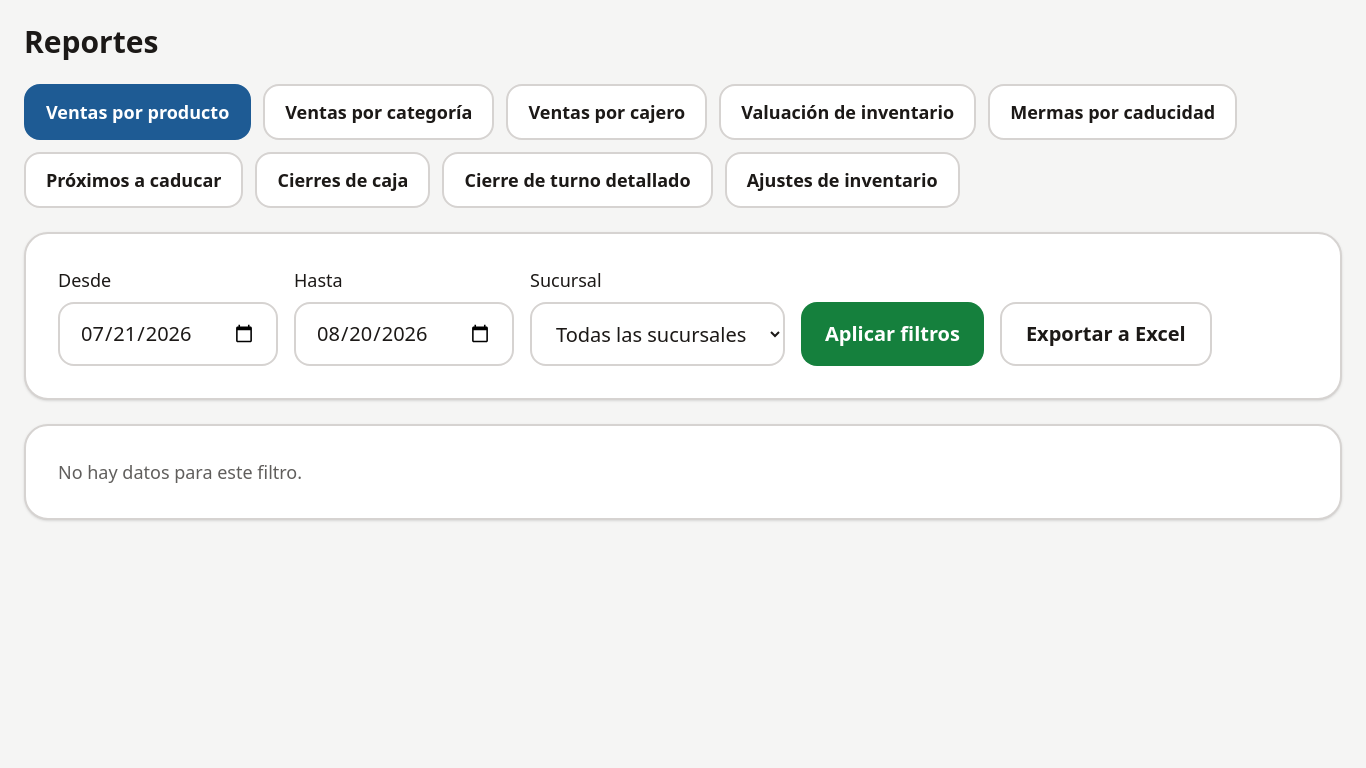
Test: ReportsScreen — Cierre de turno detallado (drill-down de un turno) › lista los turnos cerrados con un botón de "Ver detalle" por fila
Expected: the text "No hay datos para este filtro." is shown, [58, 460, 302, 484]
Click the button "Cierre de turno detallado": point(578, 180) [442, 152, 713, 208]
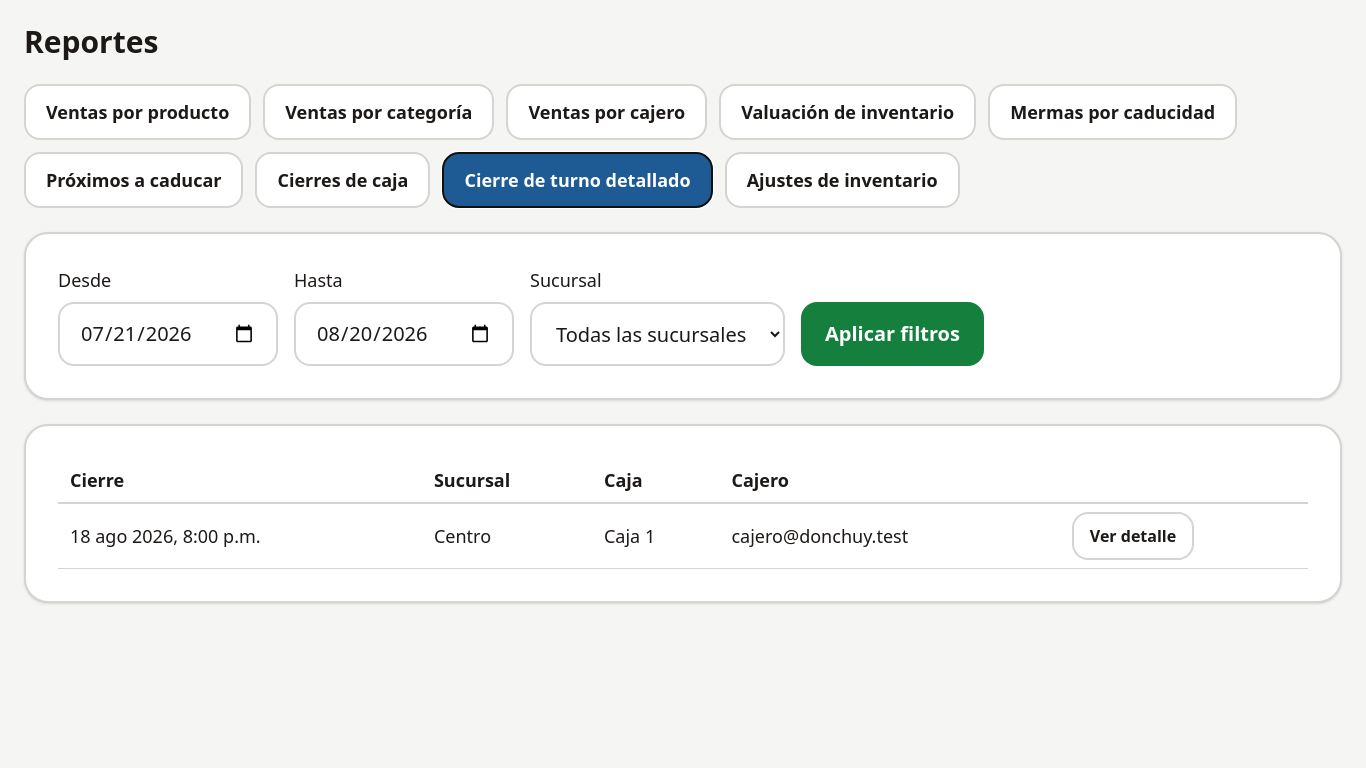
Expected: the text "cajero@donchuy.test" is shown, [720, 503, 1060, 568]
Expected: the button "Ver detalle" is shown, [1072, 512, 1194, 560]
